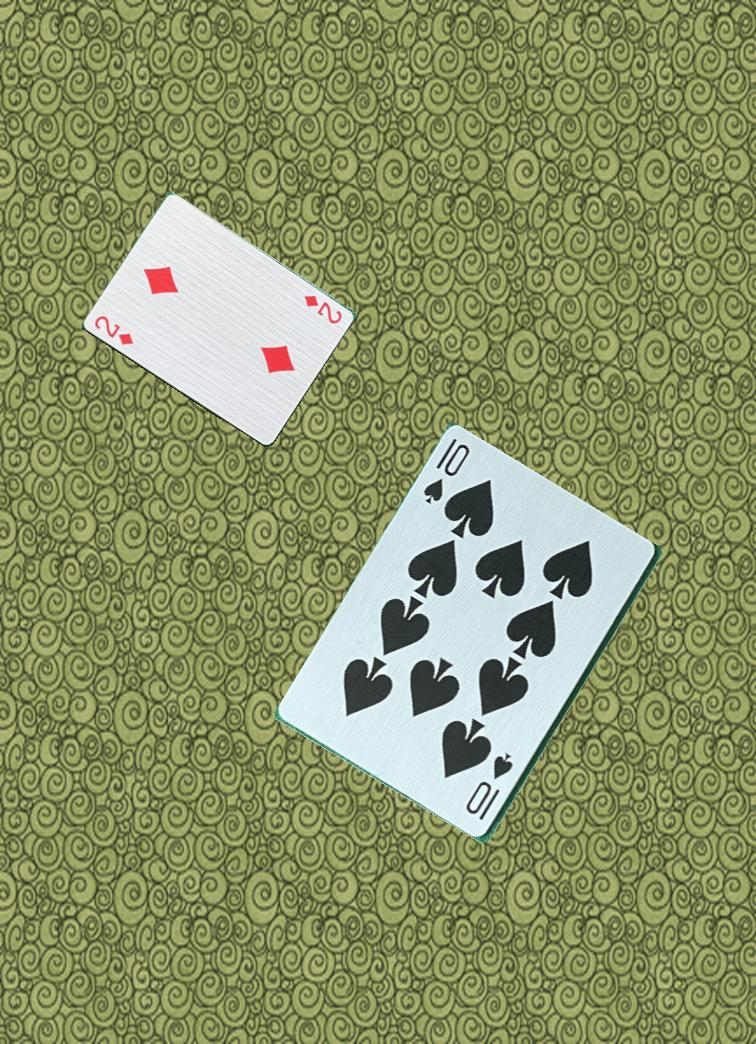2d: (301, 291, 351, 331), (91, 312, 137, 348)
ts: (463, 749, 517, 824), (420, 435, 473, 508)
